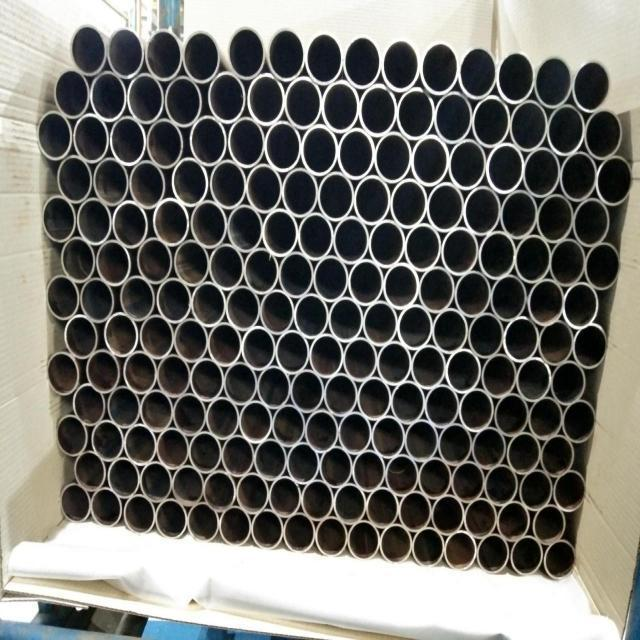pipe: (181, 28, 224, 81), (225, 25, 267, 79), (457, 45, 498, 99), (304, 30, 344, 85), (419, 40, 459, 95), (205, 72, 247, 124), (380, 37, 420, 91), (496, 49, 535, 104), (584, 106, 623, 161), (266, 27, 306, 80), (342, 34, 382, 87), (533, 54, 573, 107), (572, 59, 612, 112), (321, 79, 360, 133), (486, 141, 525, 195), (411, 133, 450, 187), (263, 119, 302, 172), (472, 95, 511, 148), (284, 76, 323, 129), (546, 103, 585, 156), (358, 84, 397, 137), (509, 98, 548, 151), (144, 28, 183, 81), (396, 87, 435, 140), (69, 23, 108, 76), (246, 73, 285, 126), (164, 75, 205, 125), (145, 117, 185, 168), (106, 26, 145, 78), (126, 72, 165, 124), (448, 138, 487, 190), (374, 130, 412, 183), (536, 192, 574, 245), (434, 90, 472, 143), (559, 150, 597, 203), (522, 145, 560, 198), (188, 116, 228, 166), (426, 181, 465, 232), (227, 116, 266, 167), (300, 124, 338, 176), (463, 184, 501, 236), (89, 70, 127, 122), (500, 189, 538, 240), (595, 155, 633, 206), (338, 127, 375, 179), (170, 158, 209, 207), (128, 159, 167, 208), (353, 175, 391, 225), (317, 171, 355, 221), (390, 178, 428, 228), (53, 68, 91, 118), (209, 159, 247, 209), (478, 230, 516, 280), (109, 115, 147, 165), (572, 197, 610, 247), (281, 167, 318, 218), (37, 110, 74, 161), (549, 237, 586, 288), (454, 269, 492, 318), (441, 226, 479, 275), (189, 199, 227, 248), (92, 157, 130, 206), (73, 113, 110, 163), (514, 233, 551, 283), (111, 200, 150, 247), (152, 199, 191, 246), (297, 211, 334, 260), (368, 219, 405, 268), (262, 208, 299, 257), (226, 203, 263, 252), (333, 215, 370, 264), (41, 194, 78, 243), (405, 222, 442, 271), (57, 154, 93, 204), (246, 163, 282, 213), (490, 274, 528, 321), (95, 239, 133, 286), (418, 266, 455, 314), (527, 278, 564, 326), (76, 196, 112, 245), (584, 241, 620, 290), (135, 238, 173, 284), (224, 284, 261, 331), (382, 262, 419, 309), (312, 255, 349, 302), (537, 319, 574, 366), (431, 307, 468, 354), (208, 243, 244, 291), (562, 281, 598, 329), (119, 276, 157, 321), (63, 314, 101, 359), (327, 297, 364, 343), (467, 312, 504, 358), (396, 304, 433, 350), (480, 352, 517, 398), (173, 239, 209, 286), (362, 300, 398, 347), (243, 247, 279, 294), (156, 277, 192, 324), (348, 259, 384, 306), (503, 315, 539, 362), (278, 251, 314, 298), (103, 312, 140, 357), (445, 348, 482, 393), (293, 293, 329, 339), (259, 289, 295, 335), (80, 277, 116, 323), (410, 344, 446, 390), (550, 359, 586, 405), (493, 392, 529, 438), (376, 340, 412, 386), (516, 356, 551, 403), (173, 317, 208, 364), (573, 322, 608, 369), (62, 236, 96, 284), (139, 314, 175, 359), (390, 379, 426, 424), (424, 383, 460, 428), (343, 336, 378, 382), (191, 281, 226, 327), (323, 372, 358, 418), (561, 398, 596, 444), (46, 274, 80, 321), (458, 388, 494, 432), (46, 351, 82, 395), (471, 426, 507, 470), (241, 326, 276, 371), (207, 322, 242, 367), (309, 333, 344, 378), (190, 357, 225, 402), (357, 376, 392, 421), (275, 329, 310, 374), (256, 364, 291, 409), (156, 353, 191, 398), (223, 360, 258, 405), (289, 368, 324, 413), (528, 395, 563, 440), (384, 452, 419, 497), (86, 350, 122, 393), (437, 423, 473, 466), (304, 408, 339, 452), (238, 399, 273, 443), (123, 350, 158, 394), (371, 414, 406, 458), (404, 418, 439, 462), (205, 396, 240, 440), (506, 431, 541, 475), (106, 385, 141, 429), (540, 433, 575, 477), (172, 392, 206, 437), (220, 434, 254, 479), (484, 464, 519, 507), (518, 468, 553, 511), (450, 460, 485, 503), (338, 411, 372, 455), (351, 448, 385, 492), (140, 389, 174, 433), (253, 437, 287, 481), (156, 427, 190, 471), (319, 445, 353, 488), (286, 441, 320, 484), (271, 404, 305, 447), (188, 431, 222, 474), (268, 475, 302, 518), (300, 479, 334, 522), (235, 472, 269, 515), (398, 490, 432, 533), (476, 532, 510, 575), (496, 501, 531, 542), (90, 419, 124, 461), (553, 470, 587, 512), (431, 494, 465, 536), (140, 460, 173, 503), (333, 482, 366, 525), (171, 464, 204, 507), (124, 423, 157, 466), (418, 456, 451, 499), (347, 519, 380, 562), (366, 486, 399, 529), (510, 534, 543, 577), (72, 384, 106, 425), (532, 504, 566, 545), (107, 456, 141, 497), (203, 470, 236, 512), (155, 498, 188, 540), (315, 515, 348, 557), (56, 415, 89, 457), (379, 523, 412, 565), (412, 526, 445, 568), (544, 538, 577, 580), (251, 508, 284, 550), (464, 497, 497, 539), (74, 450, 107, 491), (123, 494, 156, 535), (90, 487, 123, 528), (219, 505, 252, 546), (444, 530, 477, 571), (283, 512, 315, 554), (187, 502, 219, 543), (60, 483, 91, 524)
